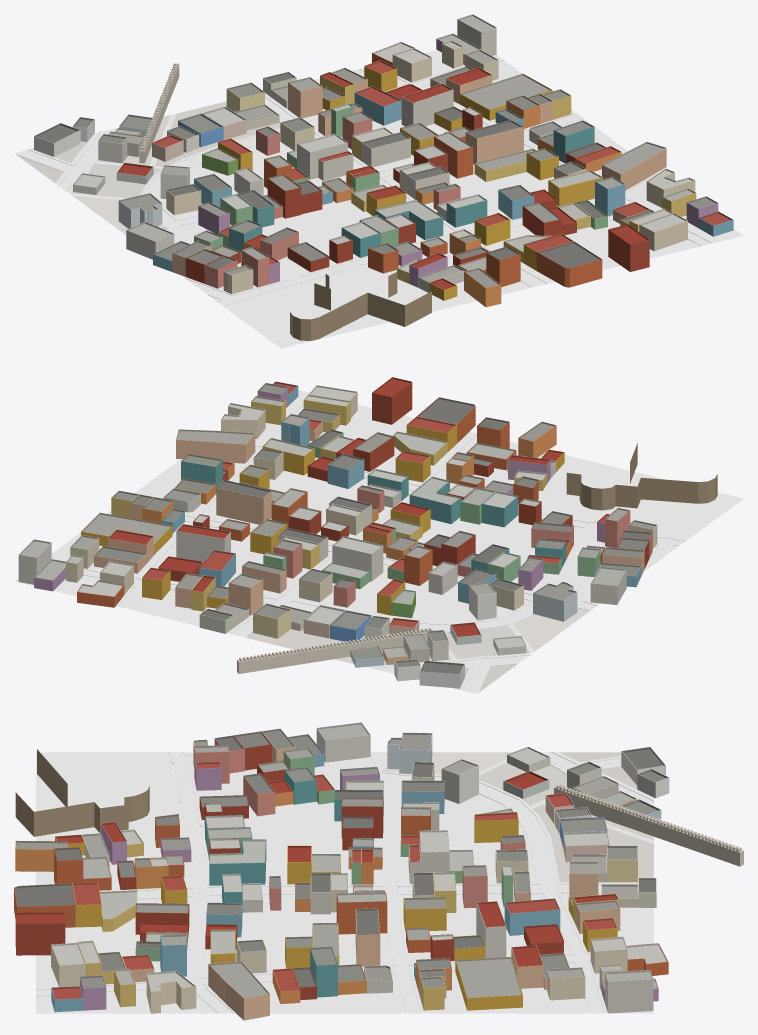
3 renders of one model, top to bottom at view 1: azimuth 30°, elevation 25°; view 2: azimuth 150°, elevation 25°; view 3: azimuth 270°, elevation 25°, orthographic. The views are drawn at different scales.
Visible parts, largest first — view 1: walls, roofs, plaza, ground, sidewalk, pavers, asphalt, stone; view 2: walls, roofs, plaza, ground, pavers, sidewalk, asphalt, stone; view 3: walls, roofs, plaza, asphalt, sidewalk, ground, pavers, stone.
Part boxes in pixels (left/top/right/bottom): walls: left=34, top=19, right=733, bottom=340; roofs: left=34, top=14, right=732, bottom=289; plaza: left=159, top=50, right=743, bottom=348; ground: left=17, top=101, right=280, bottom=234; sidewalk: left=14, top=54, right=713, bottom=306; pavers: left=144, top=97, right=711, bottom=310; asphalt: left=16, top=56, right=626, bottom=305; stone: left=139, top=63, right=179, bottom=163; walls: left=18, top=382, right=717, bottom=688; roofs: left=19, top=377, right=656, bottom=674; plaza: left=14, top=390, right=743, bottom=630; ground: left=246, top=608, right=589, bottom=691; pavers: left=231, top=404, right=596, bottom=636; sidewalk: left=83, top=401, right=686, bottom=693; asphalt: left=83, top=447, right=684, bottom=693; stone: left=237, top=627, right=433, bottom=673; walls: left=14, top=728, right=669, bottom=1020; roofs: left=14, top=722, right=668, bottom=999; plaza: left=36, top=752, right=653, bottom=1013; asphalt: left=171, top=752, right=653, bottom=1013; sidewalk: left=36, top=752, right=653, bottom=1013; ground: left=379, top=752, right=653, bottom=882; pavers: left=36, top=759, right=601, bottom=1013; stone: left=554, top=784, right=743, bottom=866.
Size of what is drawn, in the model's own units: 264 by 14.15 by 295.
